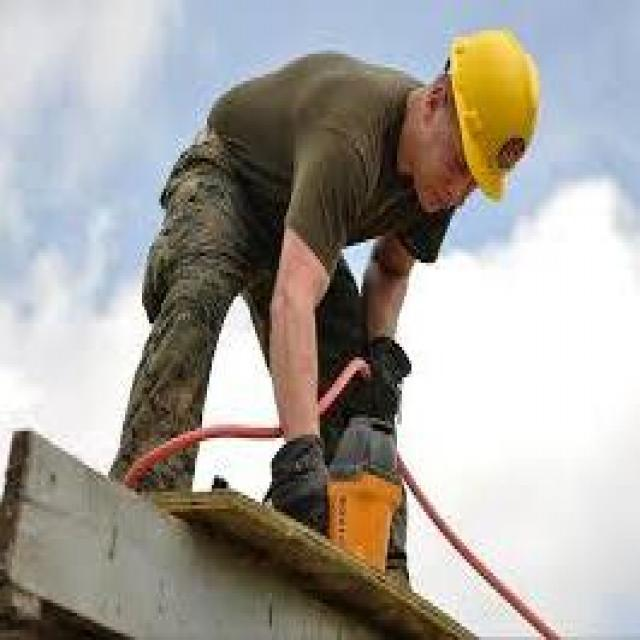safety_helmet: (440, 16, 546, 205)
